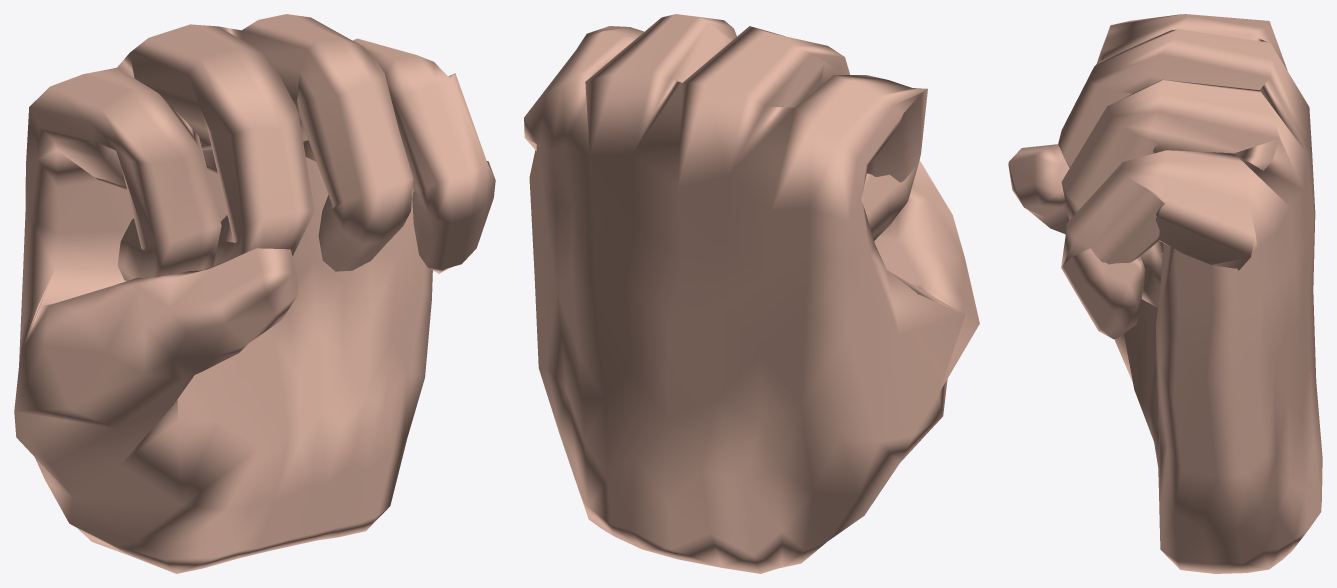
The model's file is MAO_S.obj.
The picture shows the model from 3 angles, left to right: view 1: azimuth 30°, elevation 25°; view 2: azimuth 150°, elevation 25°; view 3: azimuth 270°, elevation 25°; orthographic projection. The views are drawn at different scales.
Visible parts, largest first — view 1: mao_dir polySurface1; view 2: mao_dir polySurface1; view 3: mao_dir polySurface1.
Part boxes in pixels (x1,y1,x2,y2): mao_dir polySurface1: (14,14,495,573); mao_dir polySurface1: (524,14,979,573); mao_dir polySurface1: (1008,14,1322,573).
Bounding box in the file's own units: 133 × 153 × 92.29.
